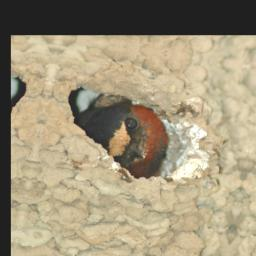Swallow: (66, 93, 177, 182)
